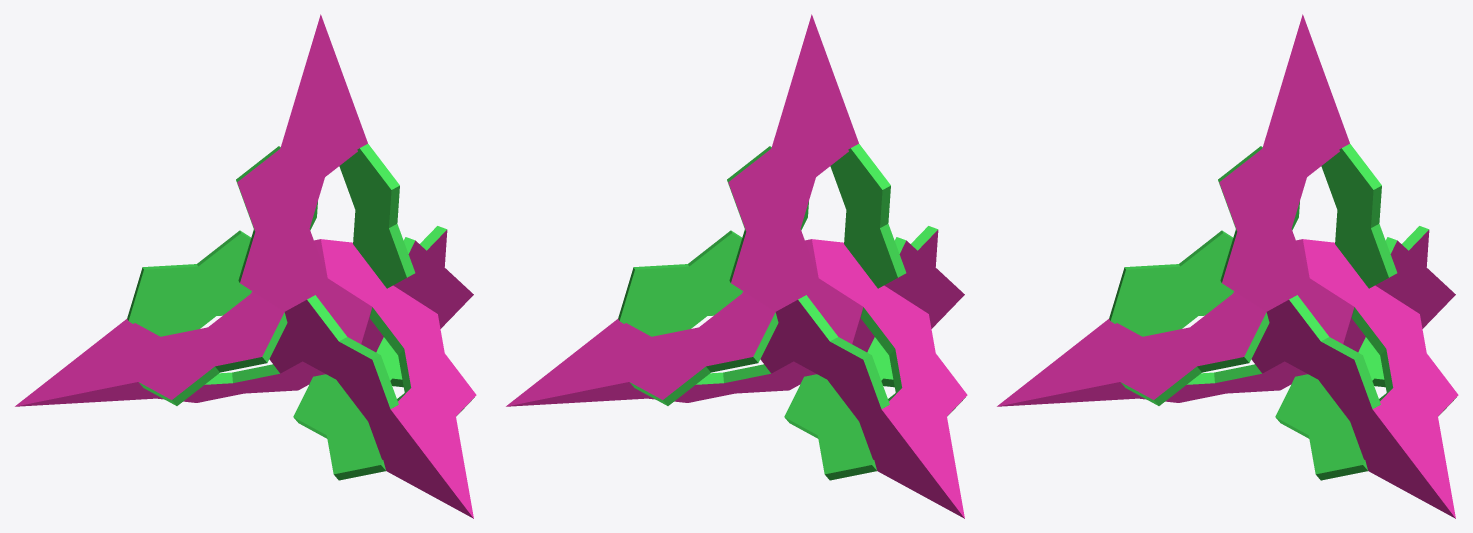
The model's file is PolyknotTetrahedron.glb.
3 renders of one model, left to right at view 1: azimuth 30°, elevation 25°; view 2: azimuth 150°, elevation 25°; view 3: azimuth 270°, elevation 25°, orthographic.
Parts seen in each view (by area): view 1: OK_3D_ESCHER_T_POLYKNOT_2Augmented_Dodeca; view 2: OK_3D_ESCHER_T_POLYKNOT_2Augmented_Dodeca; view 3: OK_3D_ESCHER_T_POLYKNOT_2Augmented_Dodeca.
Part boxes in pixels (x1,y1,x2,y2): OK_3D_ESCHER_T_POLYKNOT_2Augmented_Dodeca: (15,14,476,518); OK_3D_ESCHER_T_POLYKNOT_2Augmented_Dodeca: (506,14,967,518); OK_3D_ESCHER_T_POLYKNOT_2Augmented_Dodeca: (997,14,1458,518).
Bounding box in the file's own units: 117 × 100 × 102.
